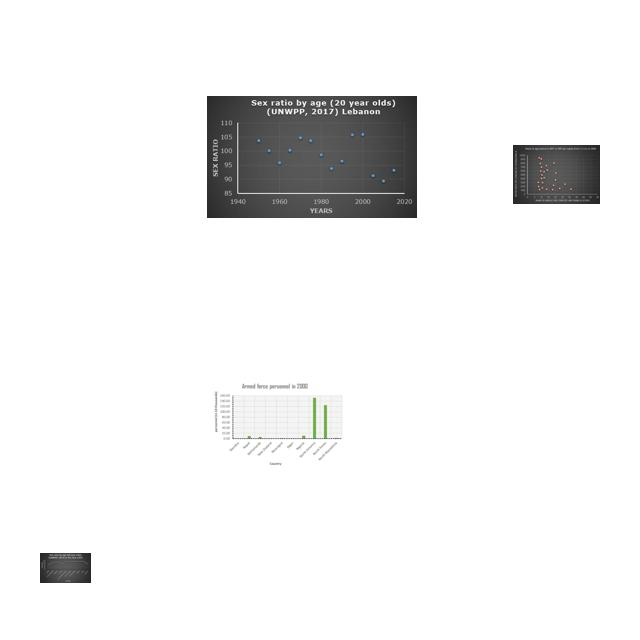Graph: (207, 96, 417, 218), (213, 382, 345, 469), (513, 145, 600, 204), (40, 553, 91, 583)
